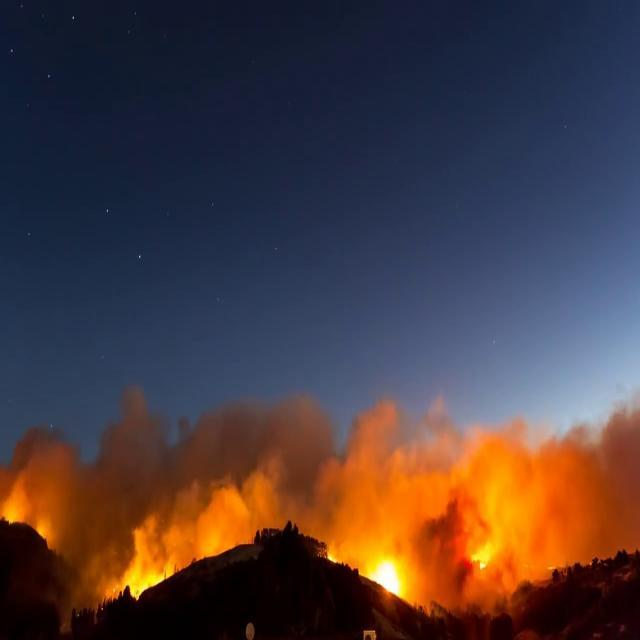Smoke: (349, 450, 631, 550), (32, 456, 267, 538)
